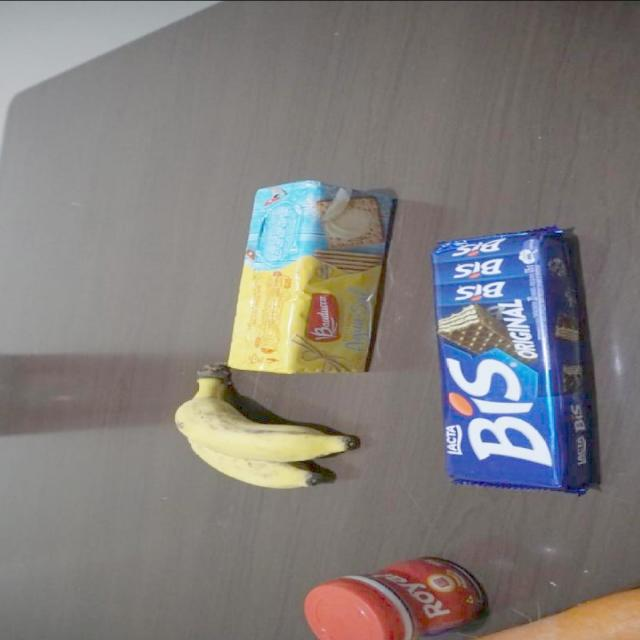Banana: (171, 360, 359, 489)
Carrot: (488, 588, 640, 640)
Cracker: (226, 180, 399, 372)
Yeast: (296, 553, 488, 640)
